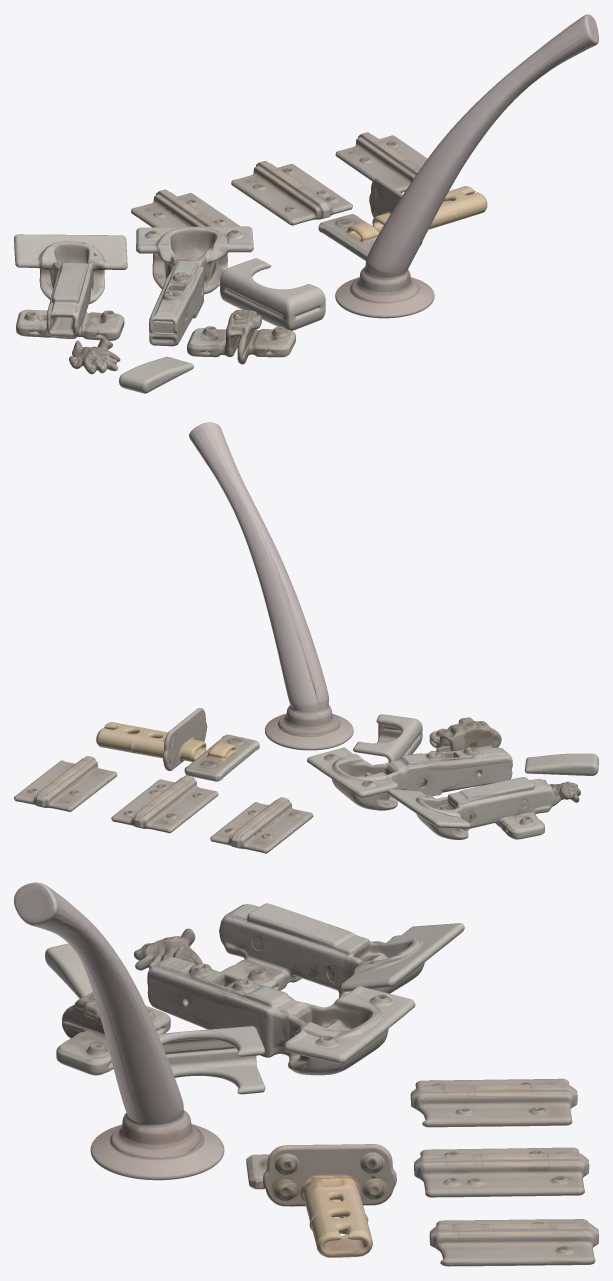
3 views of the same model, one above another, from view 1: azimuth 30°, elevation 25°; view 2: azimuth 150°, elevation 25°; view 3: azimuth 270°, elevation 25° (orthographic). The views are drawn at different scales.
Parts seen in each view (by area): view 1: material; view 2: material; view 3: material.
Boxes of the visible parts, box(x1,y1,x2,y2) form: material: box(14, 14, 598, 393); material: box(14, 422, 598, 853); material: box(14, 882, 598, 1266).
Bounding box in the file's own units: 0.8903 × 0.4849 × 0.6818.
Materials: 1 (1 with a texture image).
